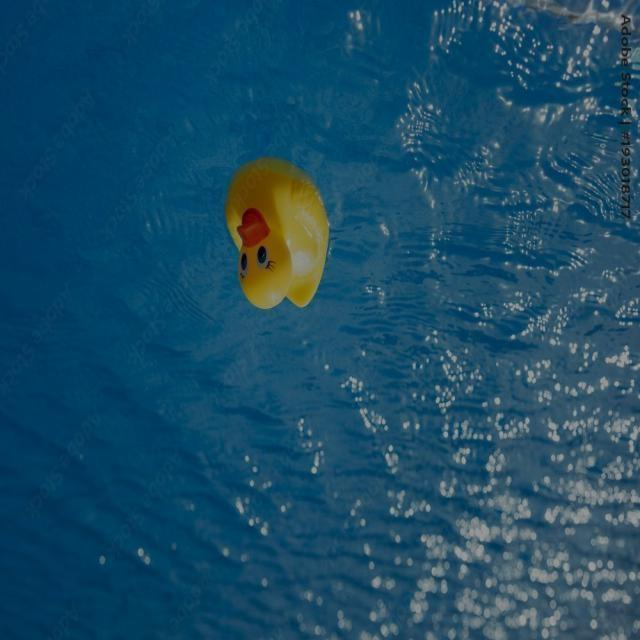rubber-duck: (224, 157, 327, 307)
